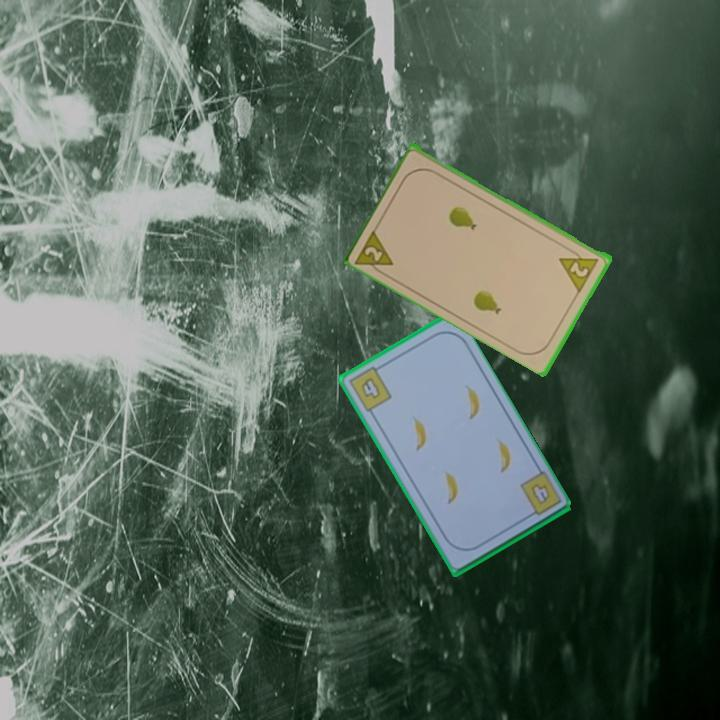2p: (352, 224, 397, 279), (556, 244, 603, 294)
4b: (345, 361, 394, 415), (527, 479, 553, 507)
